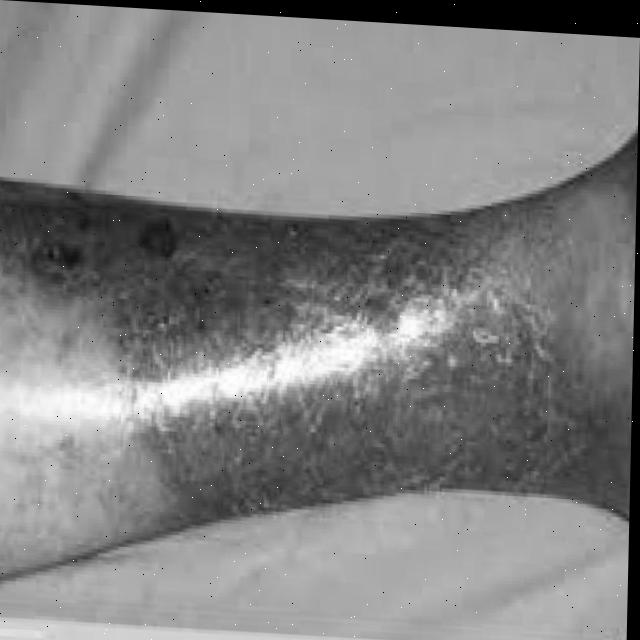Eczema: (131, 258, 634, 472)
